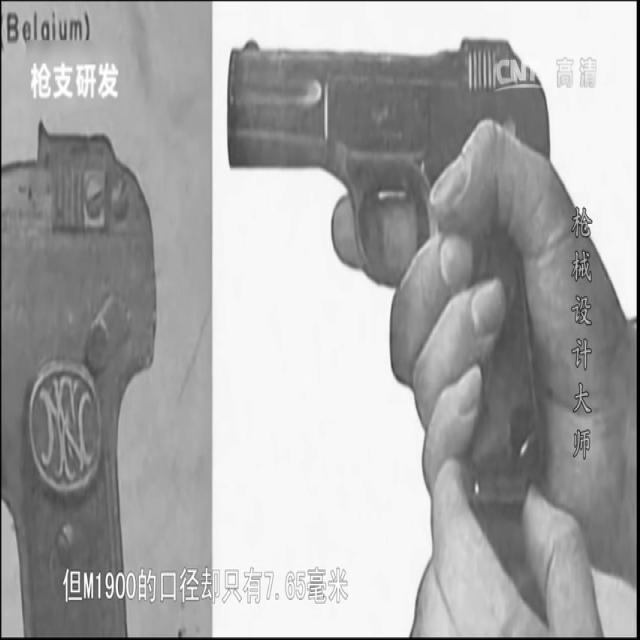Hand-Gun: (225, 26, 570, 534)
